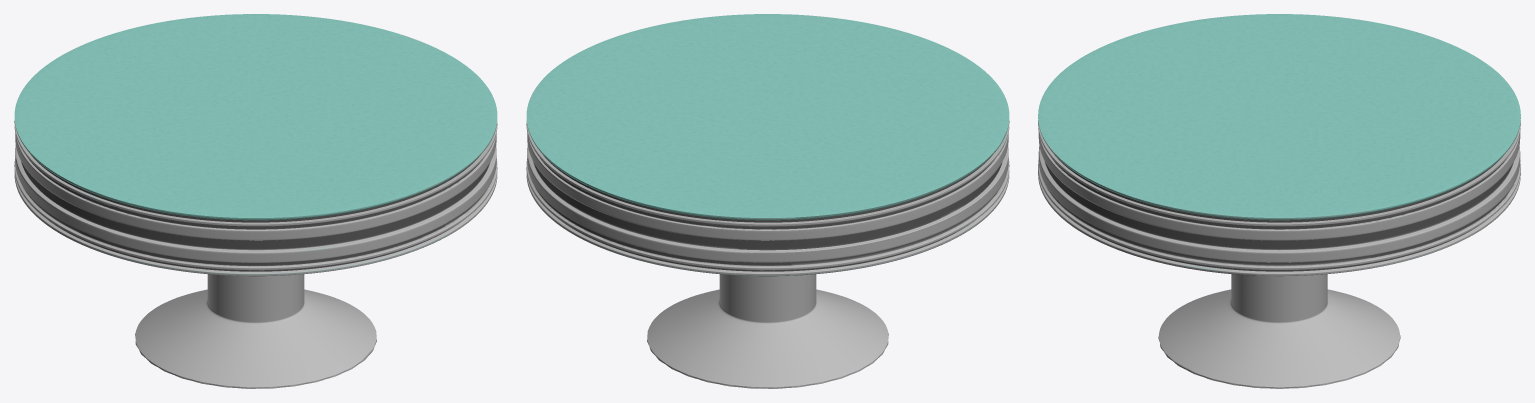
File: KitchenTable.fbx
3 views of the same model, side by side, from view 1: azimuth 30°, elevation 25°; view 2: azimuth 150°, elevation 25°; view 3: azimuth 270°, elevation 25° (orthographic).
Visible parts, largest first — view 1: KitchenTable_Baked; view 2: KitchenTable_Baked; view 3: KitchenTable_Baked.
Part boxes in pixels (bbox=[...]): KitchenTable_Baked: bbox=[14, 14, 497, 388]; KitchenTable_Baked: bbox=[526, 14, 1009, 388]; KitchenTable_Baked: bbox=[1038, 14, 1520, 388].
Bounding box in the file's own units: 199 × 101 × 199.
1 material, 1 textured.
